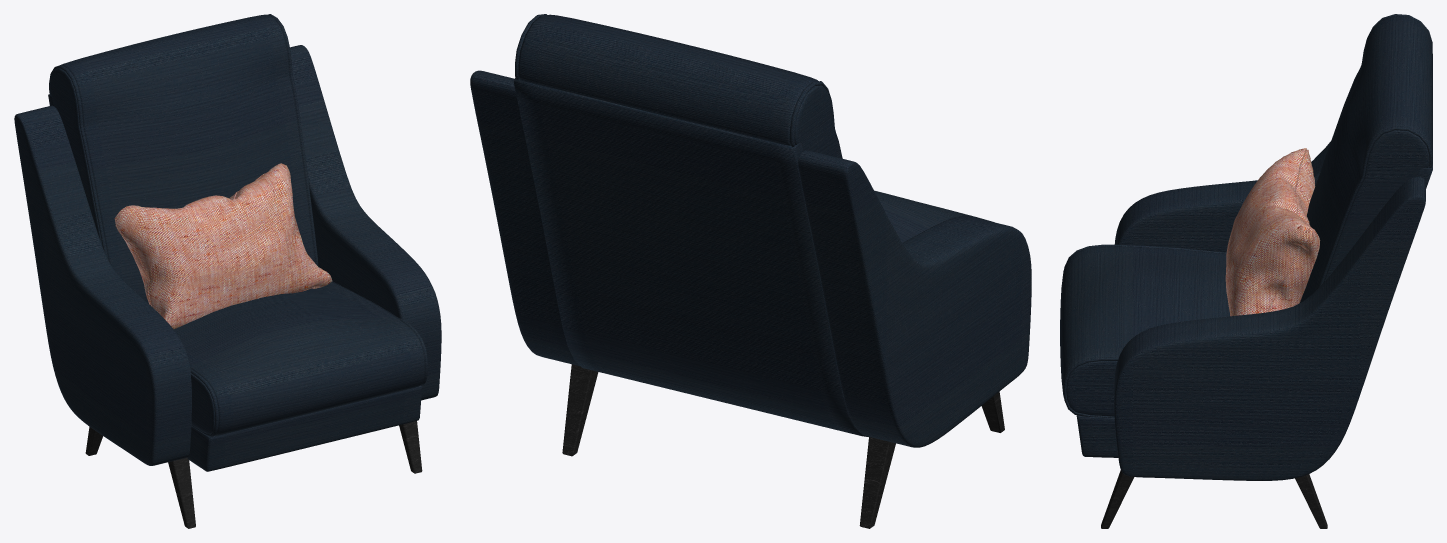
The model's file is CGT_Armchair_019.glb.
3 renders of one model, left to right at view 1: azimuth 30°, elevation 25°; view 2: azimuth 150°, elevation 25°; view 3: azimuth 270°, elevation 25°, orthographic. The views are drawn at different scales.
Visible parts, largest first — view 1: CGT_Armchair_019; view 2: CGT_Armchair_019; view 3: CGT_Armchair_019.
Boxes of the visible parts, x1,y1,x2,y2 form: CGT_Armchair_019: (14,14,441,528); CGT_Armchair_019: (470,14,1031,528); CGT_Armchair_019: (1060,14,1432,528).
Bounding box in the file's own units: 0.7238 × 0.8707 × 0.7373.
3 materials, 3 textured.
